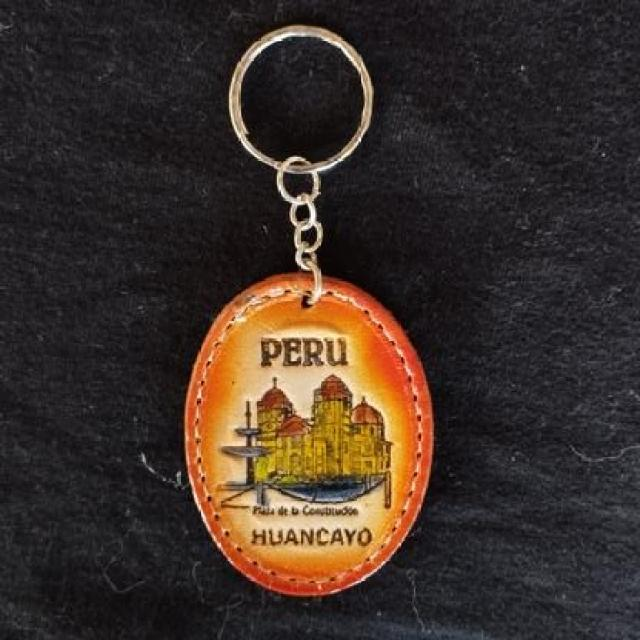Llavero: (182, 271, 435, 597)
